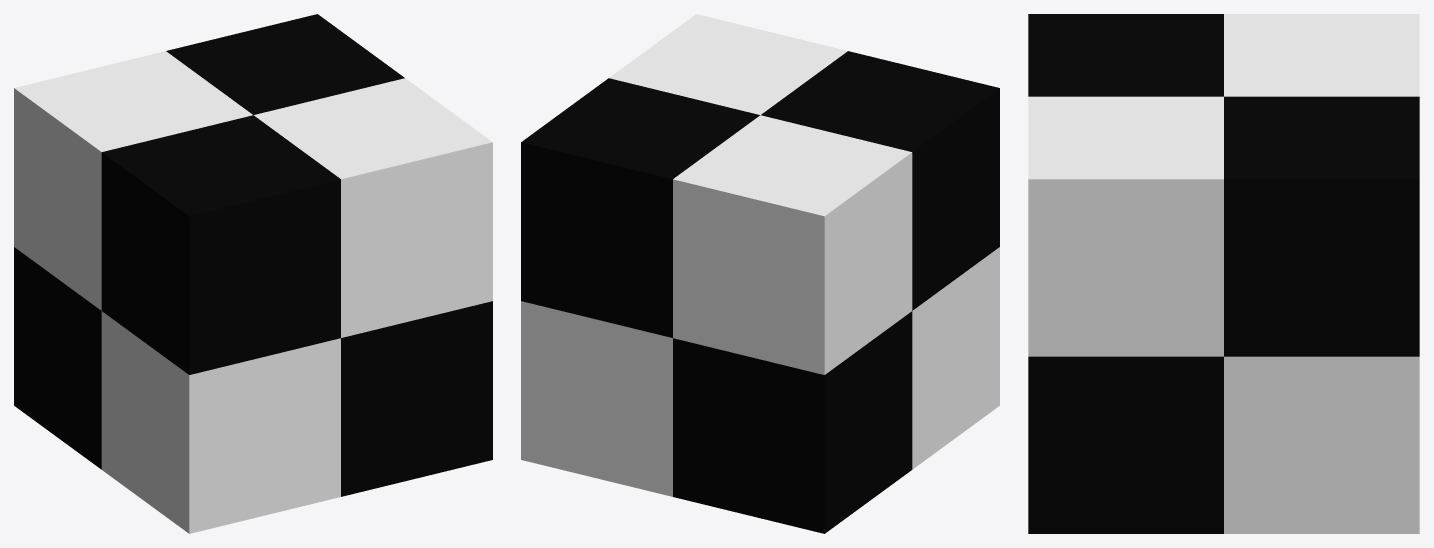
File: Finish.obj
3 views of the same model, side by side, from view 1: azimuth 30°, elevation 25°; view 2: azimuth 150°, elevation 25°; view 3: azimuth 270°, elevation 25° (orthographic). The views are drawn at different scales.
Size of the model in its own units: 1 by 1 by 1.
Materials: 1 (1 with a texture image).
